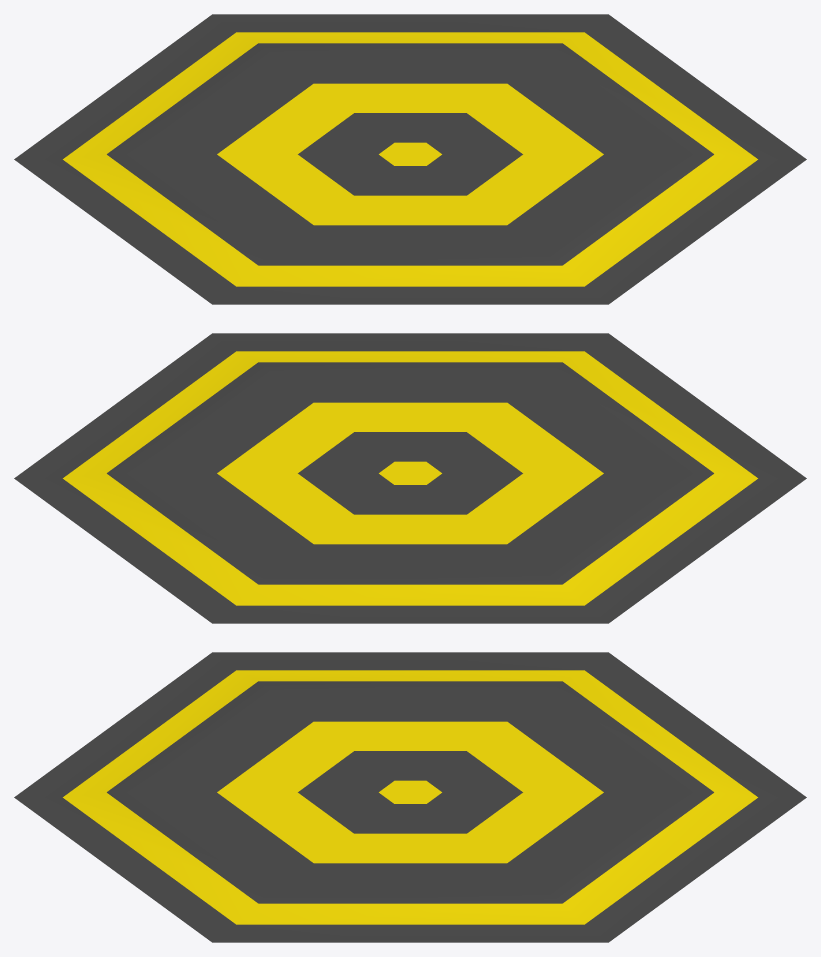
The model's file is mesh_Factory_Hockey_PuckRes.fbx.
The picture shows the model from 3 angles, top to bottom: view 1: azimuth 30°, elevation 25°; view 2: azimuth 150°, elevation 25°; view 3: azimuth 270°, elevation 25°; orthographic projection.
Visible parts, largest first — view 1: mesh_Factory_Hockey_PuckRes.fbx; view 2: mesh_Factory_Hockey_PuckRes.fbx; view 3: mesh_Factory_Hockey_PuckRes.fbx.
Part boxes in pixels (left/top/right/bottom): mesh_Factory_Hockey_PuckRes.fbx: left=14, top=14, right=806, bottom=304; mesh_Factory_Hockey_PuckRes.fbx: left=14, top=333, right=806, bottom=623; mesh_Factory_Hockey_PuckRes.fbx: left=14, top=652, right=806, bottom=942.
Size of the model in its own units: 2.09 by 0.017 by 2.41.
